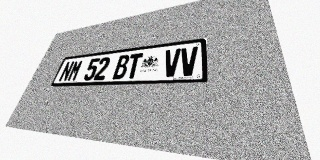2: (93, 57, 111, 80)
5: (83, 58, 101, 81)
B: (112, 54, 130, 79)
M: (66, 60, 84, 81)
N: (58, 61, 75, 82)
T: (125, 53, 143, 79)
V: (179, 46, 198, 76), (162, 48, 181, 77)
